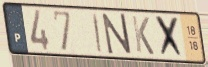4: (29, 7, 52, 53)
7: (51, 9, 73, 53)
I: (91, 12, 103, 54)
K: (130, 14, 156, 57)
N: (100, 12, 134, 56)
X: (154, 14, 186, 60)
